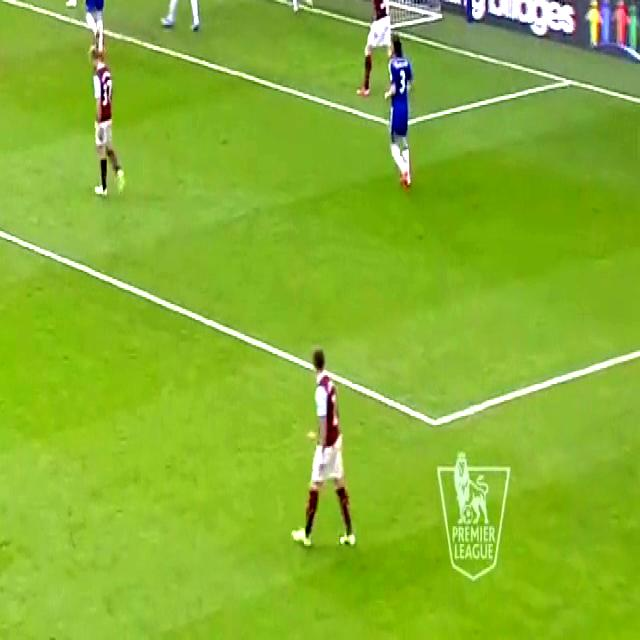soccer-player: (294, 332, 362, 566), (88, 33, 132, 209), (380, 29, 422, 198), (357, 0, 394, 103), (80, 0, 114, 57), (163, 0, 209, 39), (273, 0, 312, 21)
